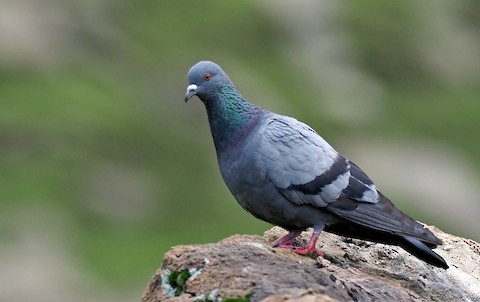pigeon: (182, 58, 451, 270)
